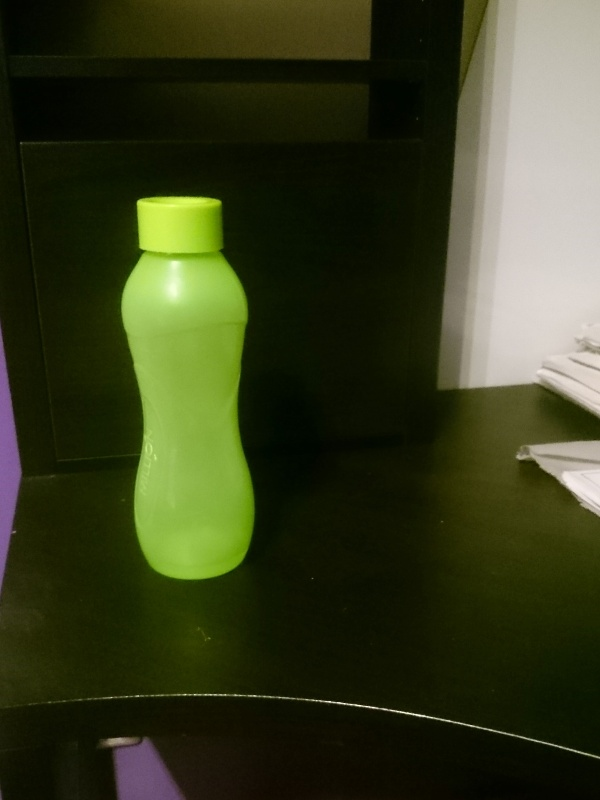my bottle: (123, 198, 253, 579)
